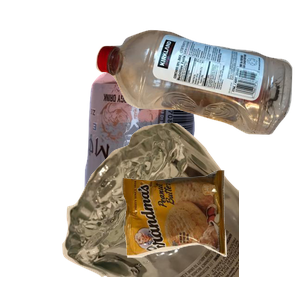glass: (60, 120, 300, 300)
metal: (82, 66, 270, 246)
plastic: (93, 27, 300, 154)
trash: (120, 168, 300, 300)
